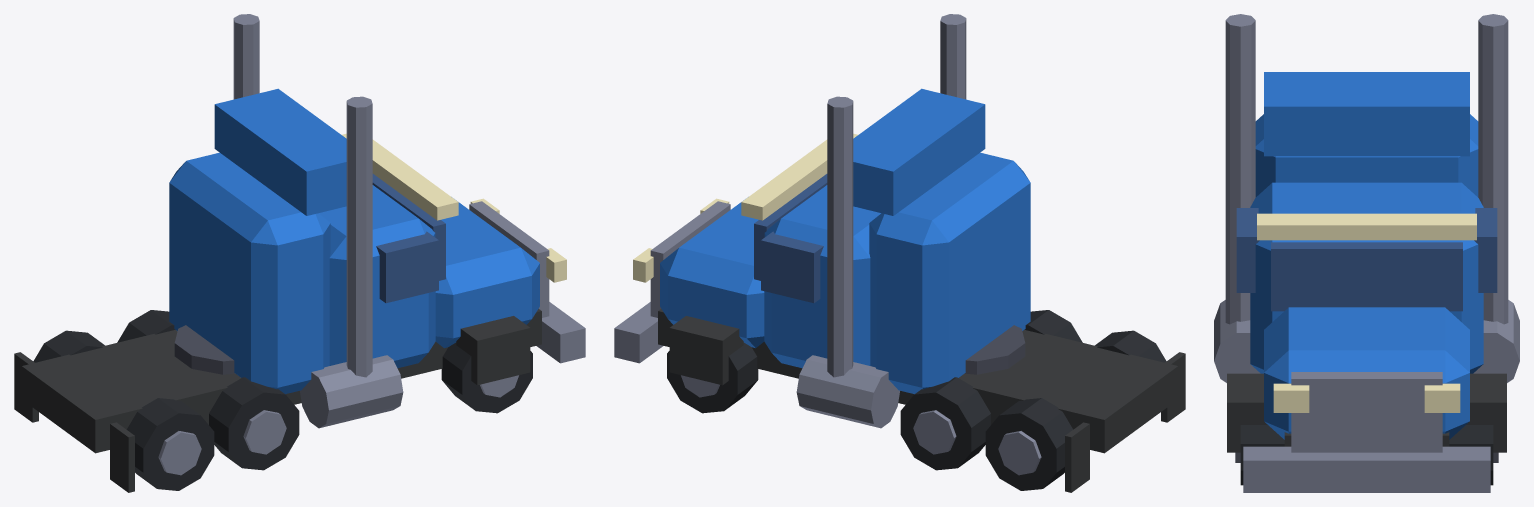
Rendered from semi.tractor-1.glb.
The picture shows the model from 3 angles, left to right: view 1: azimuth 30°, elevation 25°; view 2: azimuth 150°, elevation 25°; view 3: azimuth 270°, elevation 25°; orthographic projection. The views are drawn at different scales.
Parts seen in each view (by area): view 1: model; view 2: model; view 3: model.
Boxes of the visible parts, left/top/right/bottom form: model: left=14, top=14, right=585, bottom=492; model: left=614, top=14, right=1185, bottom=492; model: left=1214, top=14, right=1519, bottom=492.
Bounding box in the file's own units: 0.444 × 0.31 × 0.2228.
1 material, 1 textured.
